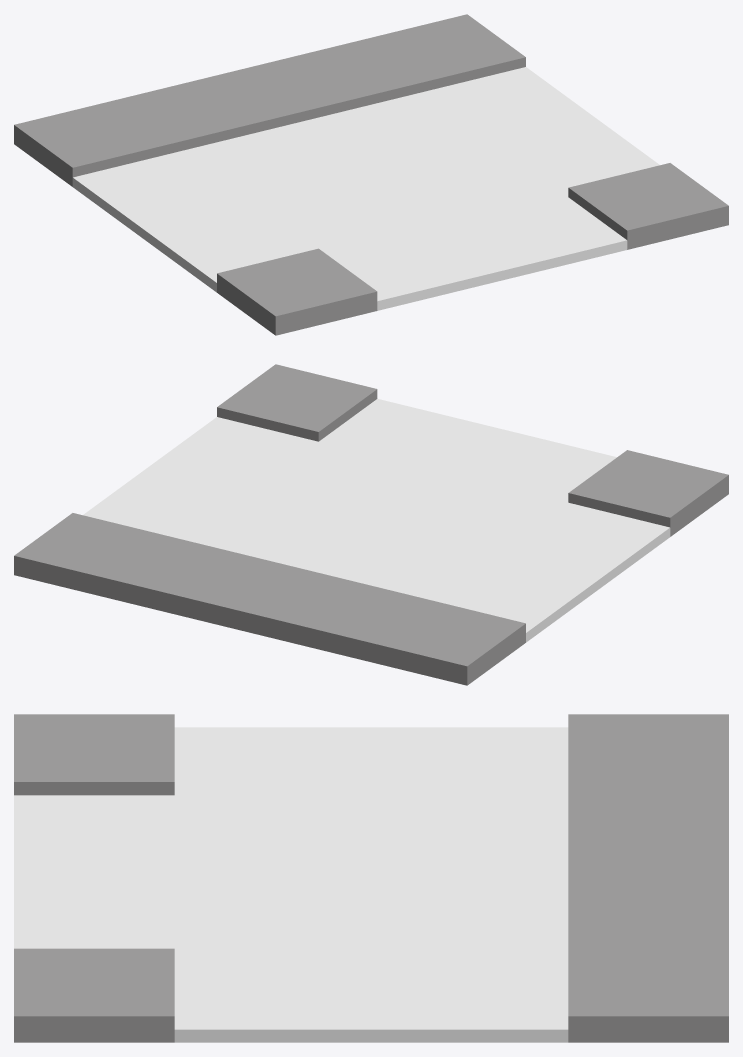
Rendered from road_JR_49.gltf.
3 renders of one model, top to bottom at view 1: azimuth 30°, elevation 25°; view 2: azimuth 150°, elevation 25°; view 3: azimuth 270°, elevation 25°, orthographic. The views are drawn at different scales.
Visible parts, largest first — view 1: tar, stone, ink; view 2: tar, stone, ink; view 3: tar, stone, ink.
Boxes of the visible parts, <box> form: tar: <box>78,71,659,308</box>; stone: <box>14,14,728,335</box>; ink: <box>72,67,627,310</box>; tar: <box>83,401,664,638</box>; stone: <box>14,364,728,685</box>; ink: <box>142,398,670,642</box>; tar: <box>14,727,553,1042</box>; stone: <box>14,714,728,1042</box>; ink: <box>14,727,568,1042</box>.
Bounding box in the file's own units: 49 × 2 × 49.
Materials: 3 (3 with a texture image).
